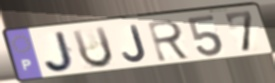5: (187, 13, 225, 58)
7: (222, 9, 256, 54)
J: (42, 30, 78, 74), (121, 23, 149, 64)
R: (145, 18, 193, 64)
U: (70, 25, 116, 71)
